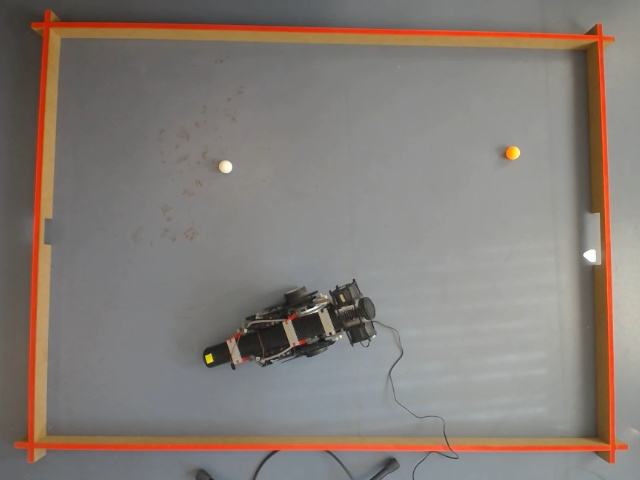orange: (6, 10, 509, 152)
robot: (200, 280, 376, 370)
robot-front: (203, 344, 229, 366)
white: (2, 10, 513, 152), (49, 3, 227, 167)
